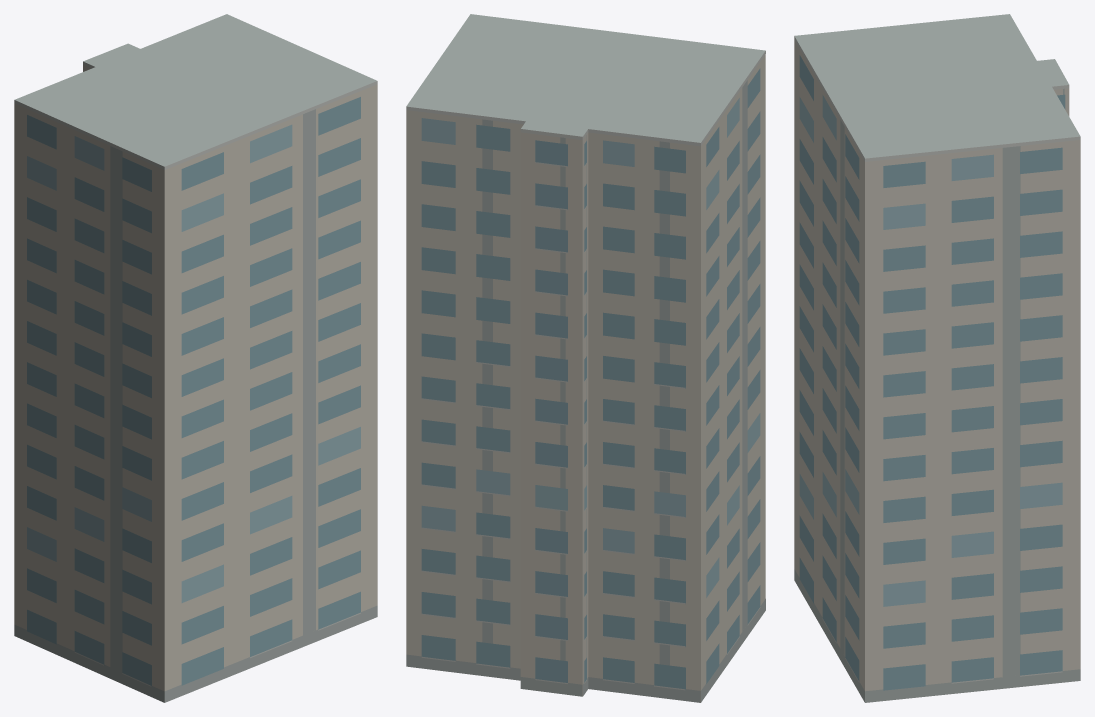
The model's file is survey-upis-32811039.glb.
The picture shows the model from 3 angles, left to right: view 1: azimuth 30°, elevation 25°; view 2: azimuth 150°, elevation 25°; view 3: azimuth 270°, elevation 25°; orthographic projection. The views are drawn at different scales.
Visible parts, largest first — view 1: survey-upis-32811039.tmp; view 2: survey-upis-32811039.tmp; view 3: survey-upis-32811039.tmp.
Part boxes in pixels (x1=…): survey-upis-32811039.tmp: x1=14, y1=14, x2=377, y2=702; survey-upis-32811039.tmp: x1=406, y1=14, x2=765, y2=702; survey-upis-32811039.tmp: x1=794, y1=14, x2=1080, y2=702.
Bounding box in the file's own units: 22.46 × 39.4 × 18.8.
